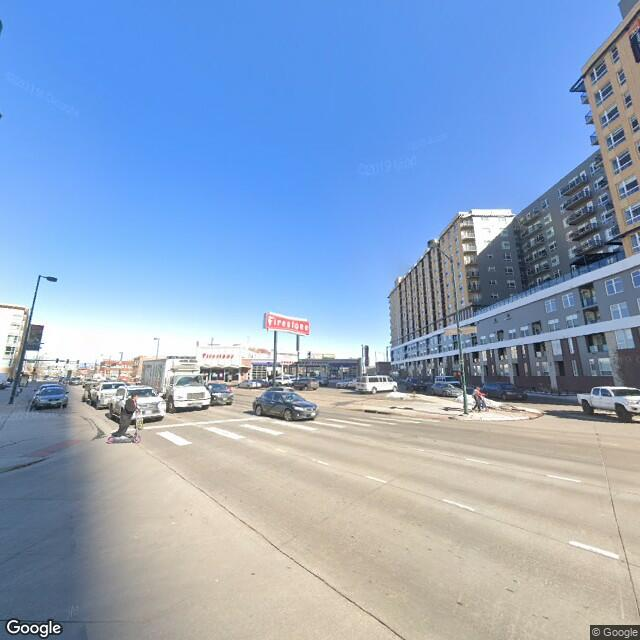lamp: (426, 234, 472, 411)
